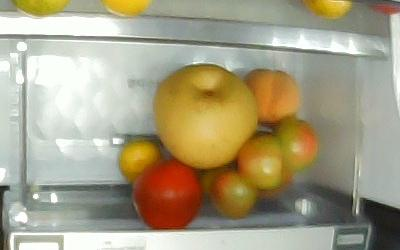peach: (242, 67, 299, 125)
pear: (152, 62, 257, 168)
tangerine: (117, 138, 161, 182)
tomato: (130, 158, 202, 229), (236, 133, 291, 190), (207, 168, 257, 219), (274, 116, 318, 171)
